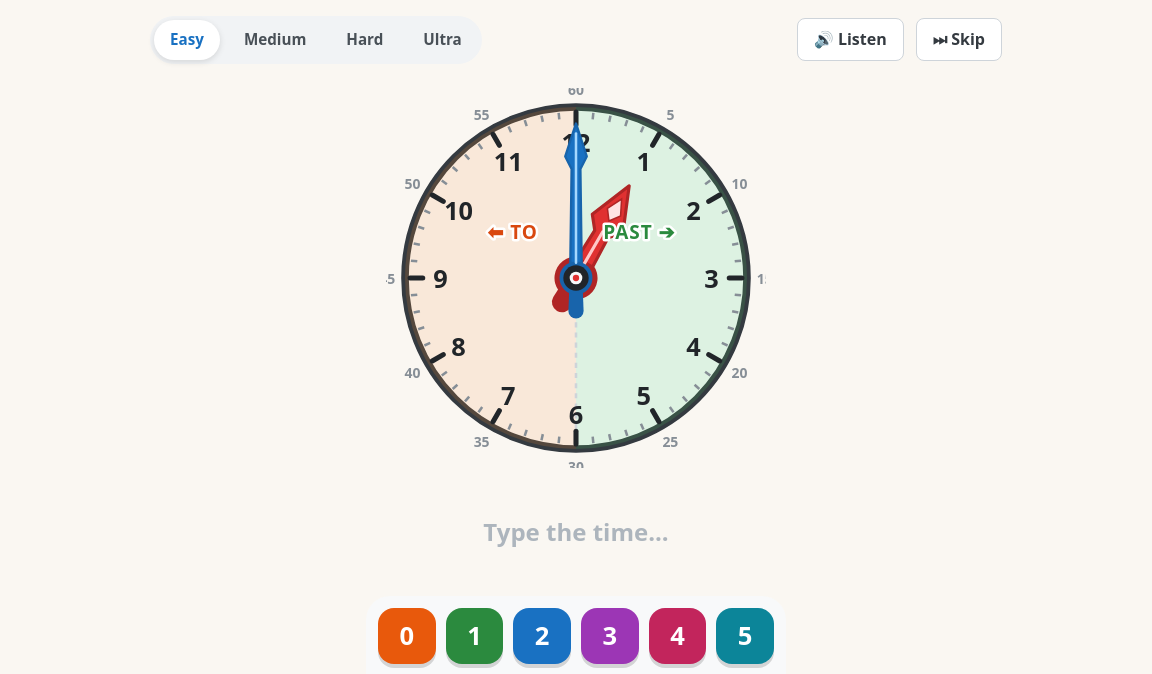
Scenario: ClockGame on touch devices › on-screen keypad (touch-only screens) › takes the hour from a tapped number key
This screenshot has width=1152, height=674.
Click the button with test id "child-key-1" at {"x": 475, "y": 636}, box [446,608,503,664]
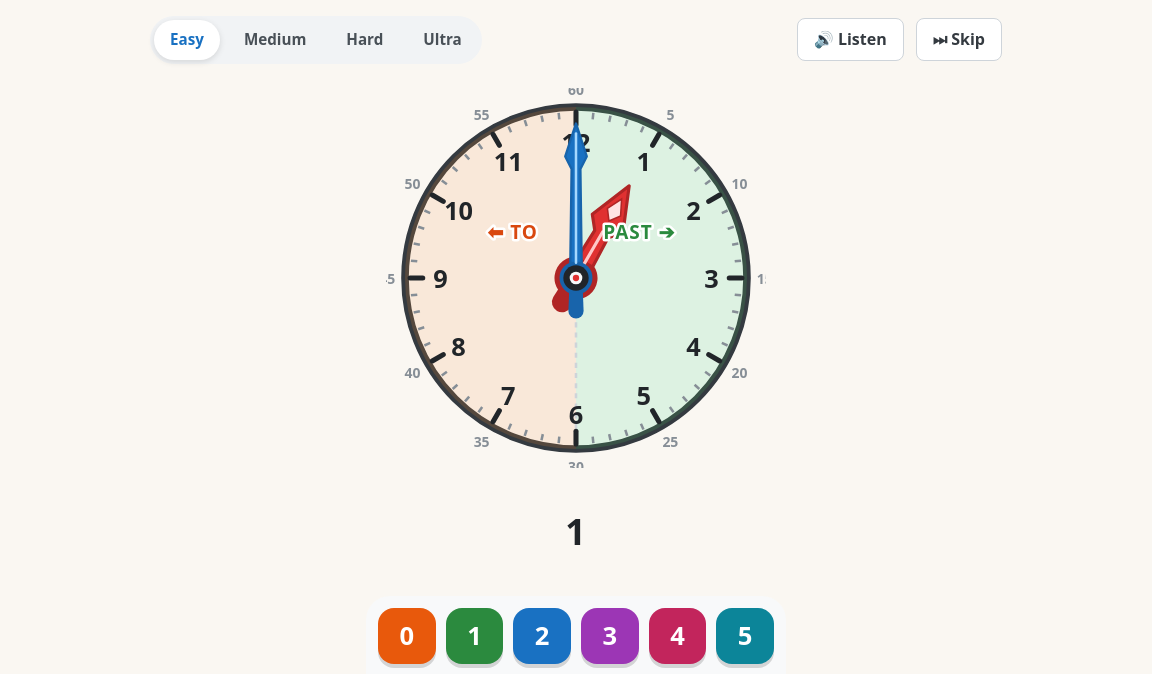
Expected: the text with test id "revealed-text" reads "1", [565,507,587,556]
